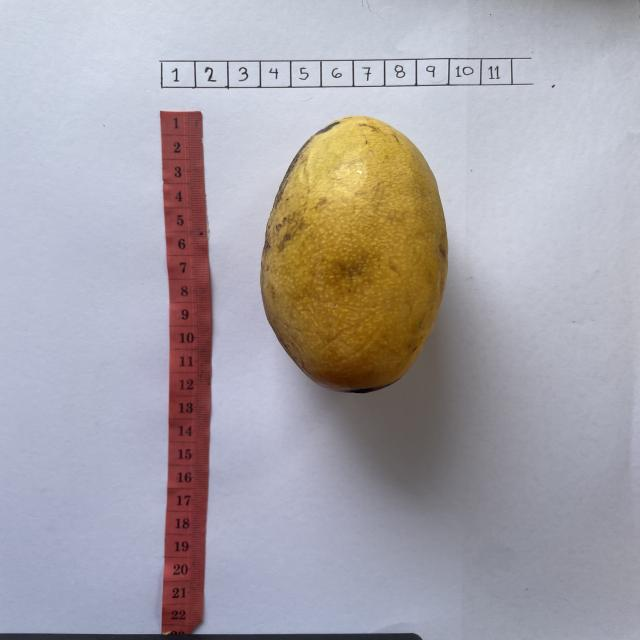Ripe: (259, 116, 450, 395)
